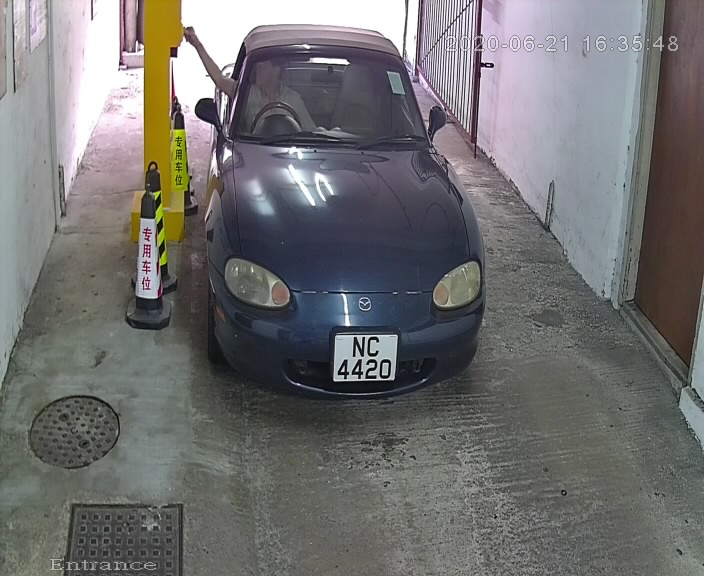privatecar: (177, 14, 493, 417)
